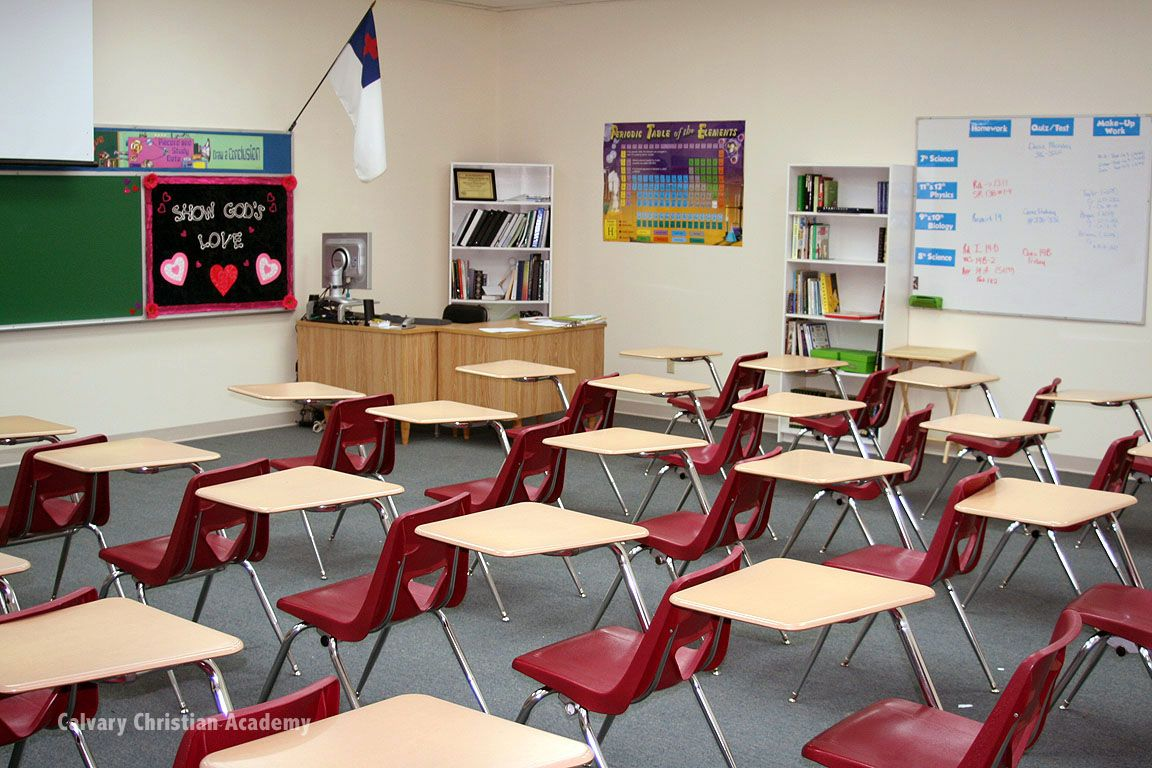desk: (654, 535, 950, 680)
